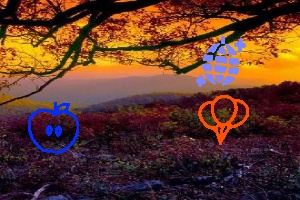手雷: (196, 37, 246, 89)
球拍: (197, 95, 250, 145)
苹果: (28, 104, 80, 155)
